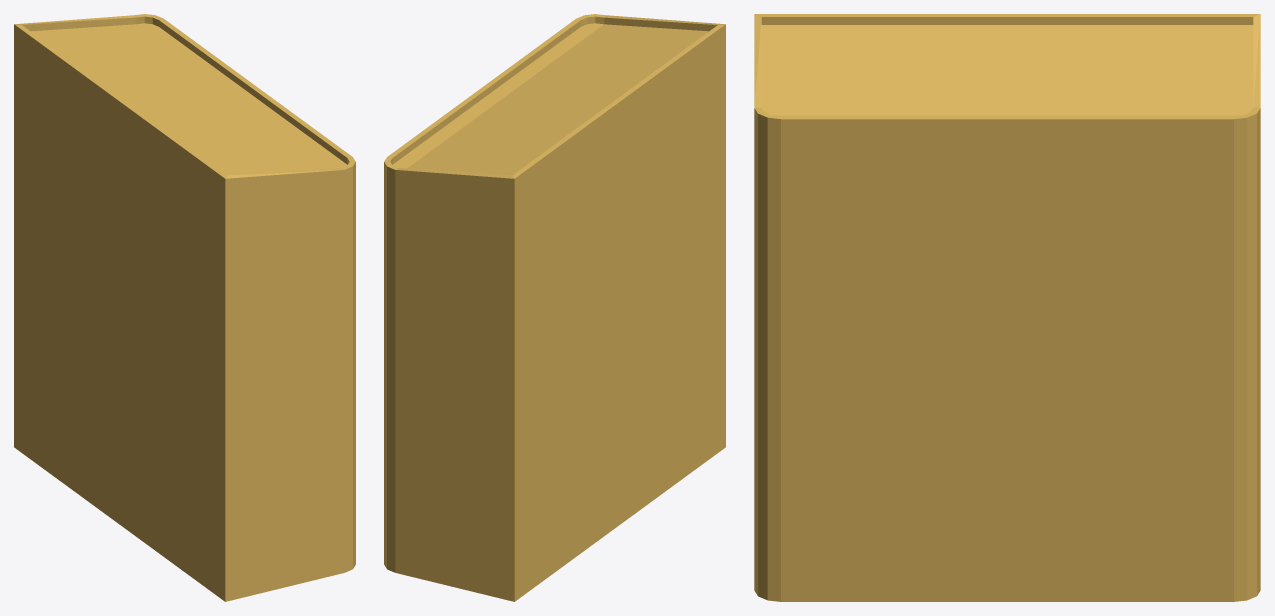
The model's file is Tap, Soap, Mirror, Toilet roll holder .gltf.
3 renders of one model, left to right at view 1: azimuth 30°, elevation 25°; view 2: azimuth 150°, elevation 25°; view 3: azimuth 270°, elevation 25°, orthographic. The views are drawn at different scales.
Visible parts, largest first — view 1: group_25; view 2: group_25; view 3: group_25.
Part boxes in pixels (<box>): group_25: <box>14,14,355,601</box>; group_25: <box>384,14,725,601</box>; group_25: <box>754,14,1260,601</box>.
Size of the model in its own units: 4.25 by 12.4 by 11.22.
